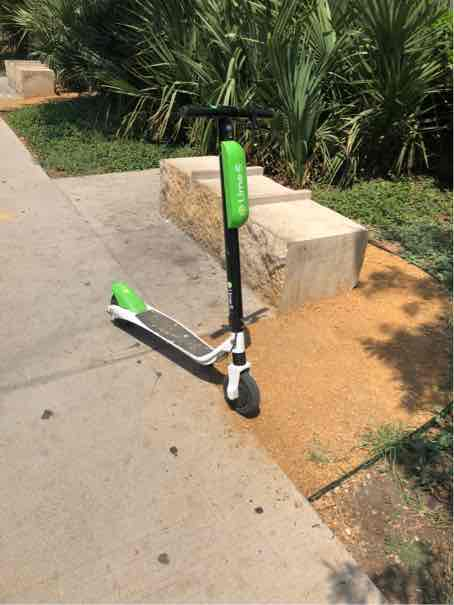scooter: (95, 88, 285, 423)
